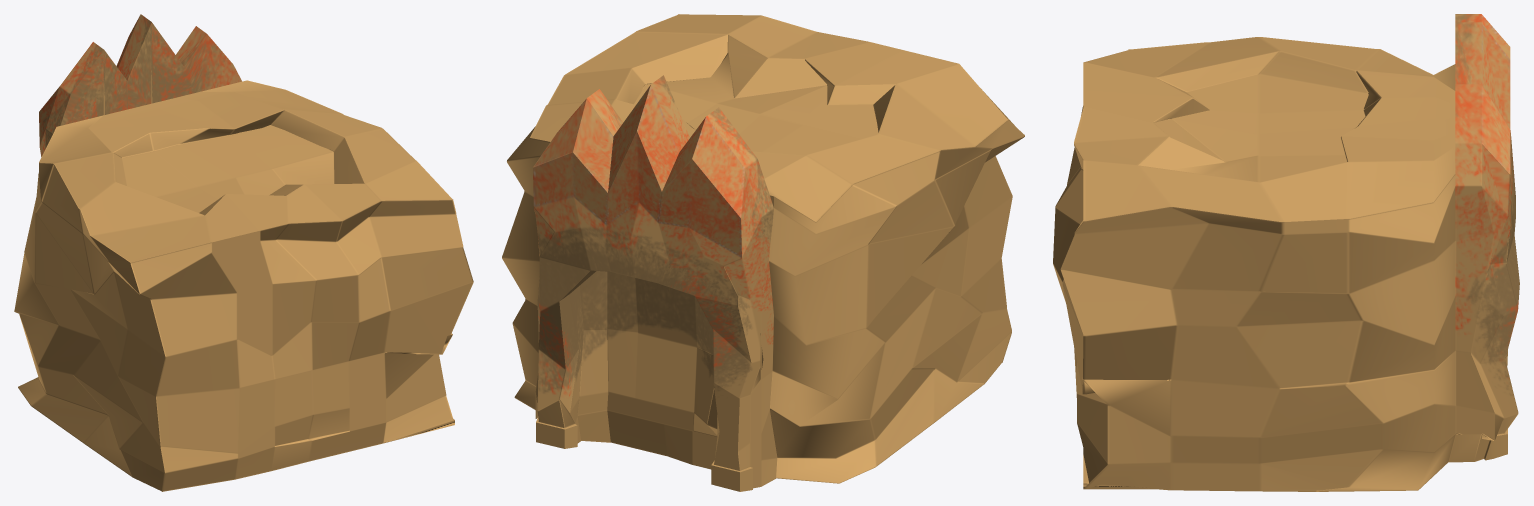
File: fire temple entrance.fbx
3 views of the same model, side by side, from view 1: azimuth 30°, elevation 25°; view 2: azimuth 150°, elevation 25°; view 3: azimuth 270°, elevation 25° (orthographic). The views are drawn at different scales.
Visible parts, largest first — view 1: pCube2; view 2: pCube2; view 3: pCube2.
Boxes of the visible parts, x1,y1,x2,y2 form: pCube2: (14, 14, 473, 491); pCube2: (502, 14, 1024, 491); pCube2: (1053, 14, 1519, 491).
Bounding box in the file's own units: 104 × 99.7 × 108.
Materials: 1 (1 with a texture image).
